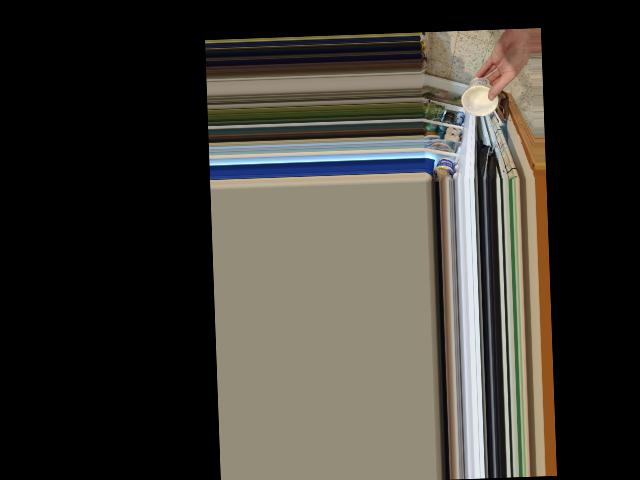cotage: (465, 74, 500, 116)
